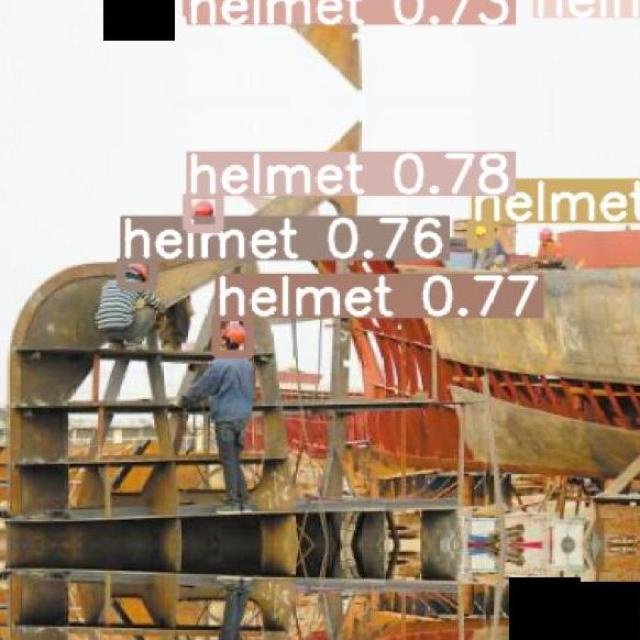red helmet: (218, 325, 247, 350), (126, 263, 148, 283), (192, 203, 215, 219)
